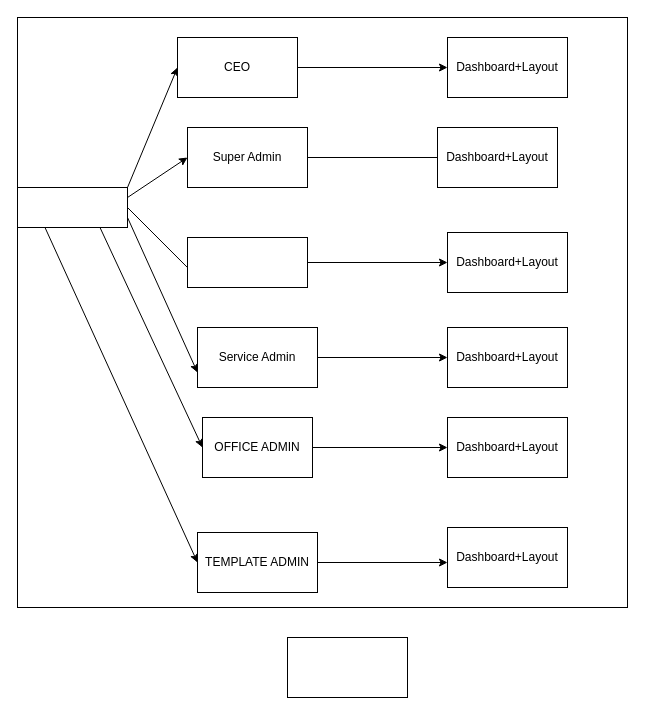
Some shapes in this 645 by 715 pixel diagram are drawn without their labels. Each missing label, with the centre of its shape:
Auth Module: point (347, 667)
Login: point (72, 207)
Subscriber's Client: point (247, 262)
